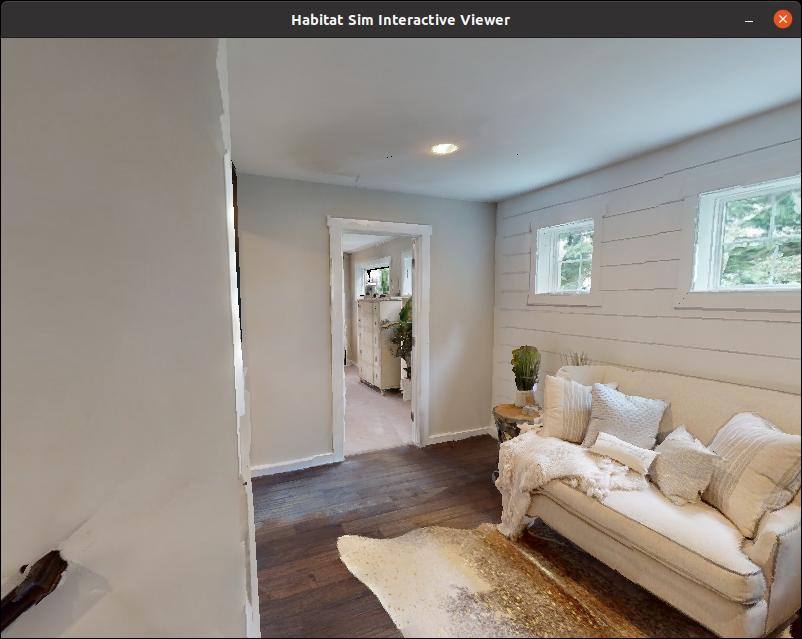door-frame: (323, 213, 438, 455)
sofa: (503, 341, 802, 633)
